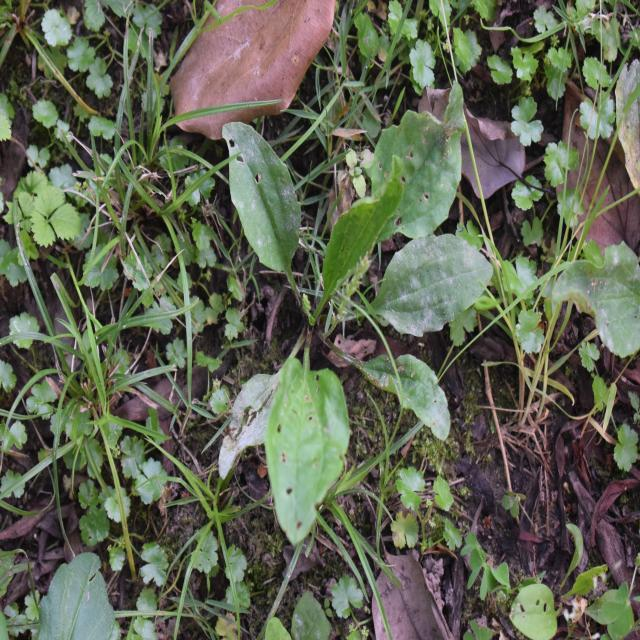plantain: (212, 80, 485, 499)
